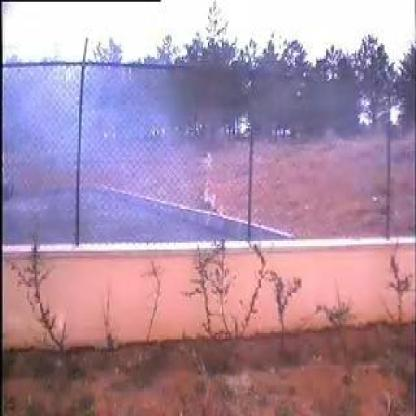-: (20, 84, 192, 228)
